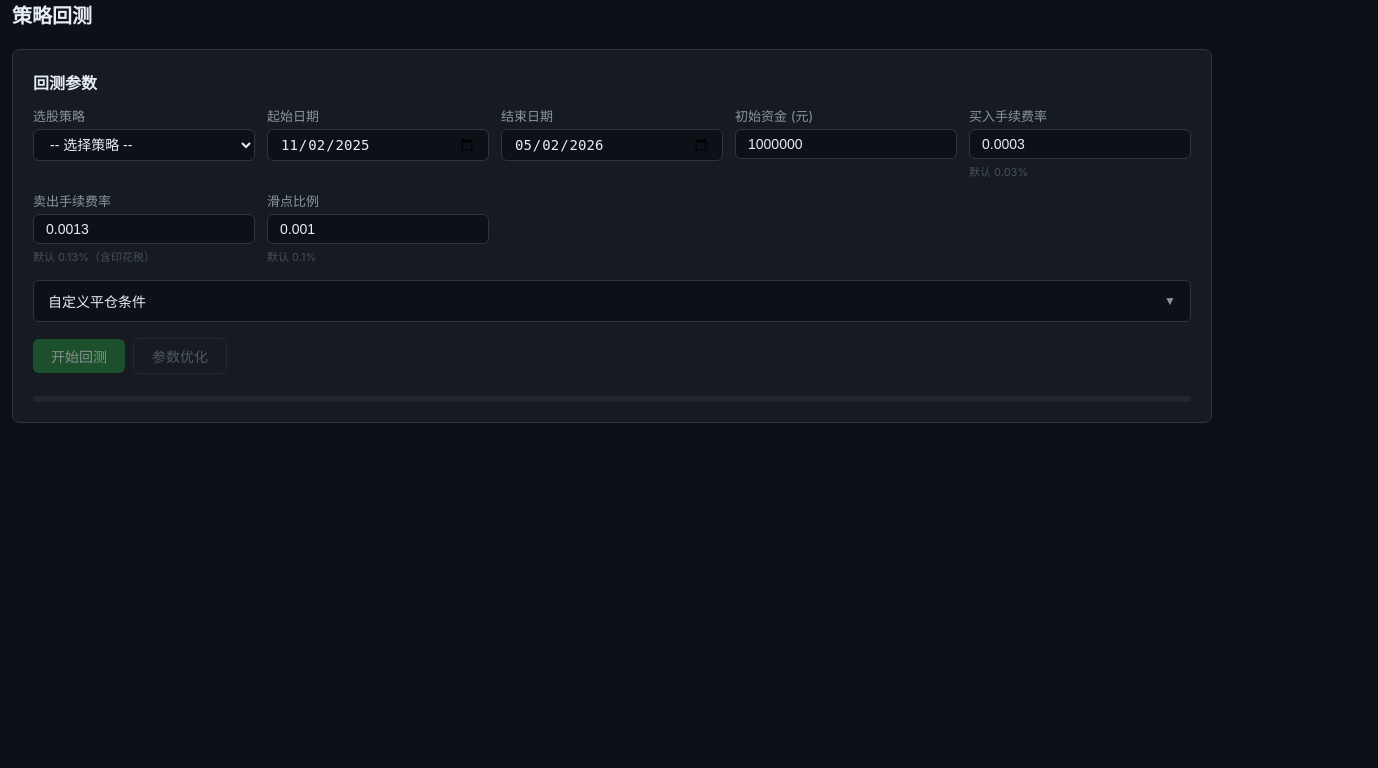
Test: BacktestView - 相对值阈值 UI 配置 › 选择 ma_volume 基准字段时显示均量周期输入框
Click the button "自定义平仓条件 ▼".
click(97, 302)  # box 34,281 -> 1190,321
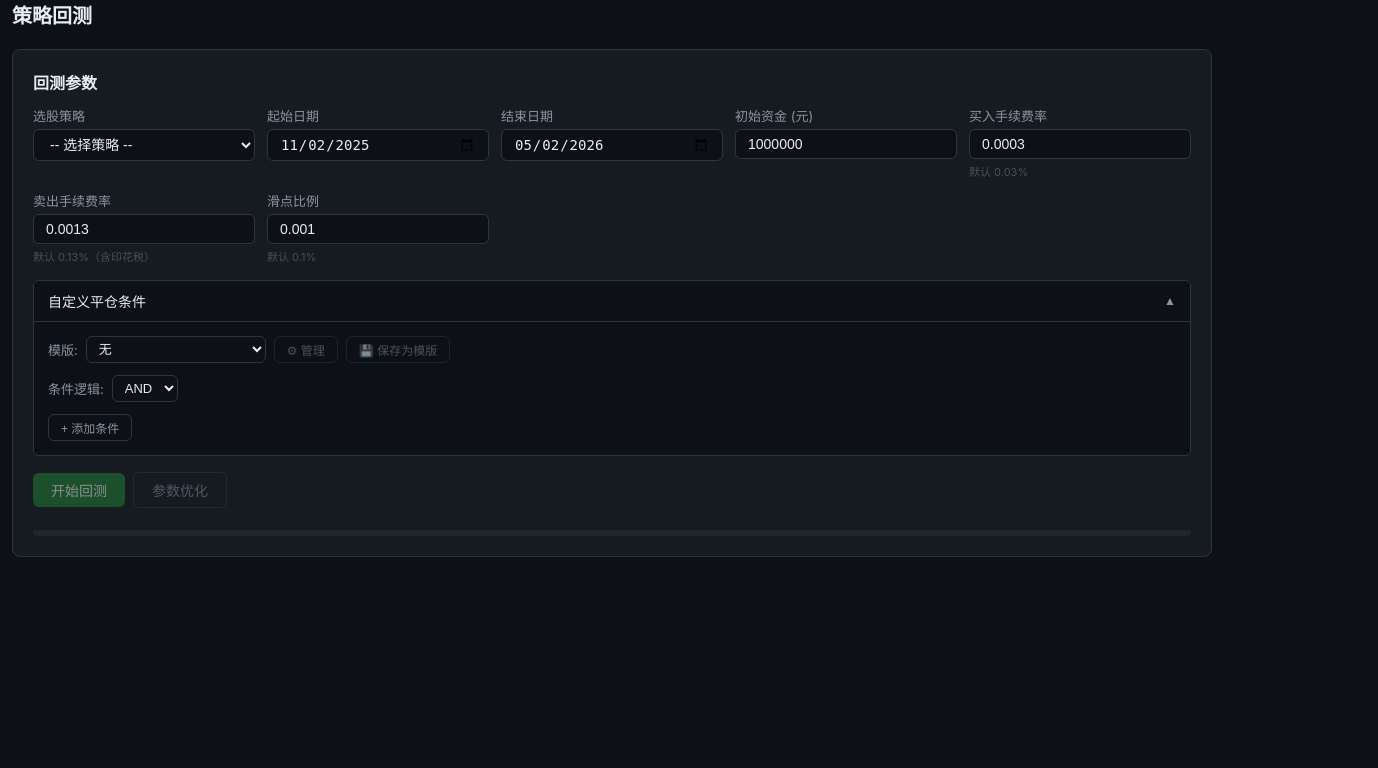
Click the button with aria-label "添加平仓条件".
click(90, 428)  # box 48,414 -> 132,441
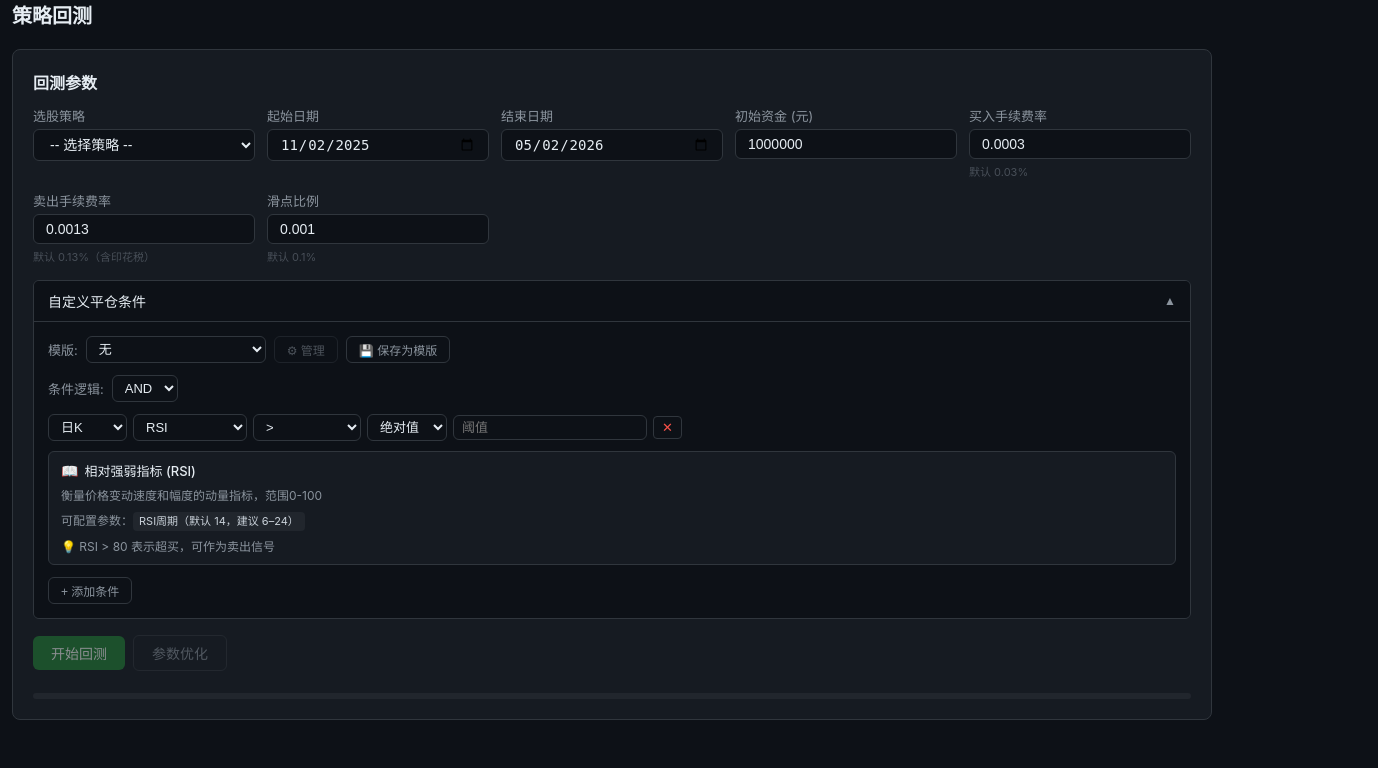
Note: 切换到相对值模式
Select "相对值" in the dropdown named "条件1阈值模式" at [407, 428], box 367,414 -> 447,441
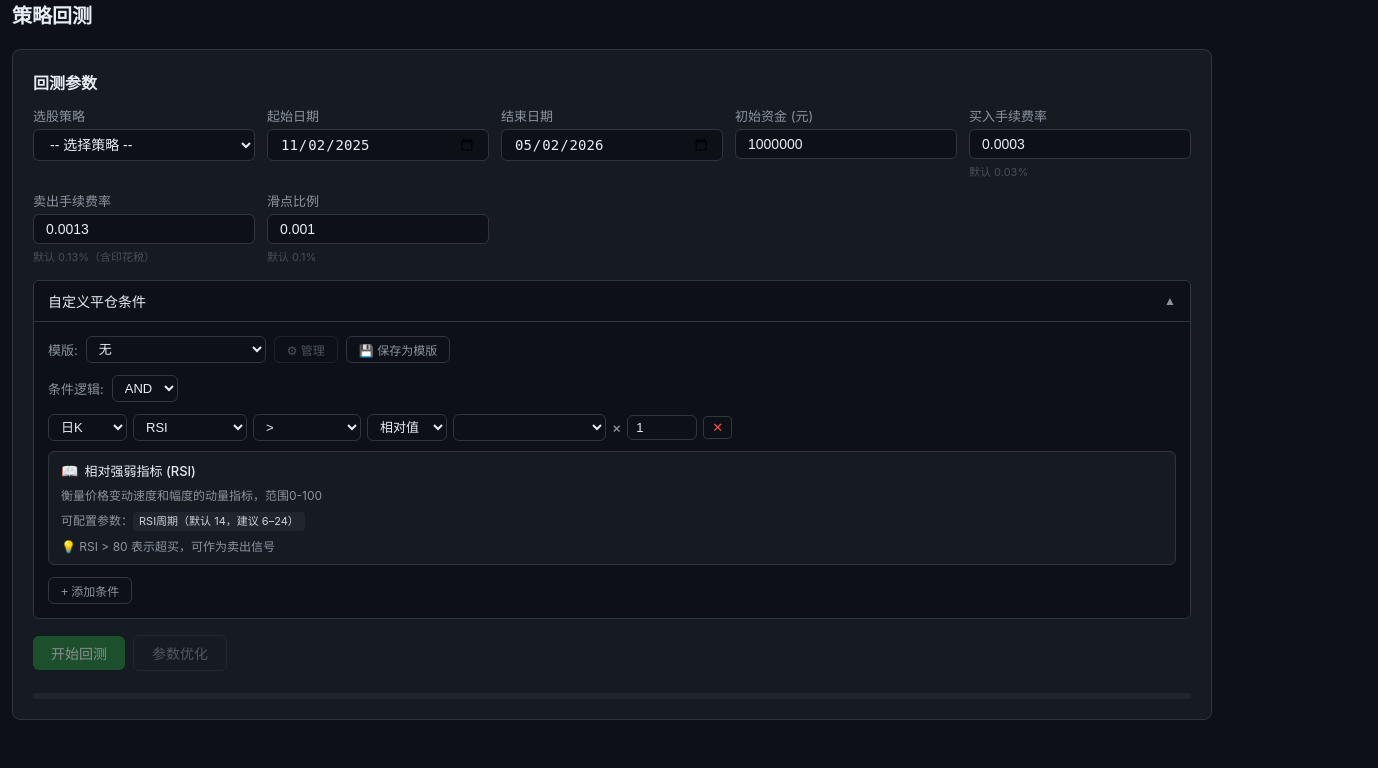
Note: 选择 ma_volume 基准字段
Select "N日均量" in the dropdown named "条件1基准字段" at [530, 428], box 453,414 -> 606,441
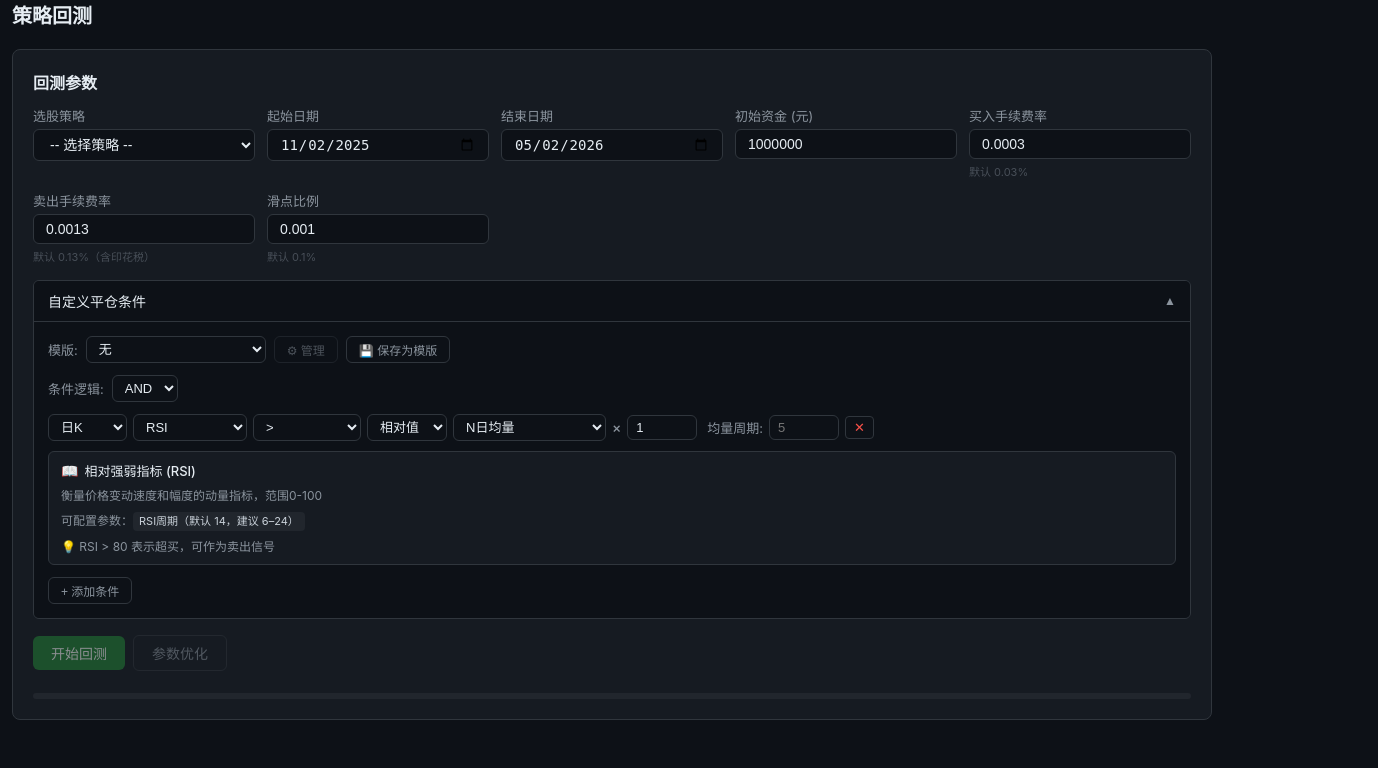
Expected: the number field with id "ma-vol-period-0" is shown, 769,415 -> 839,440
